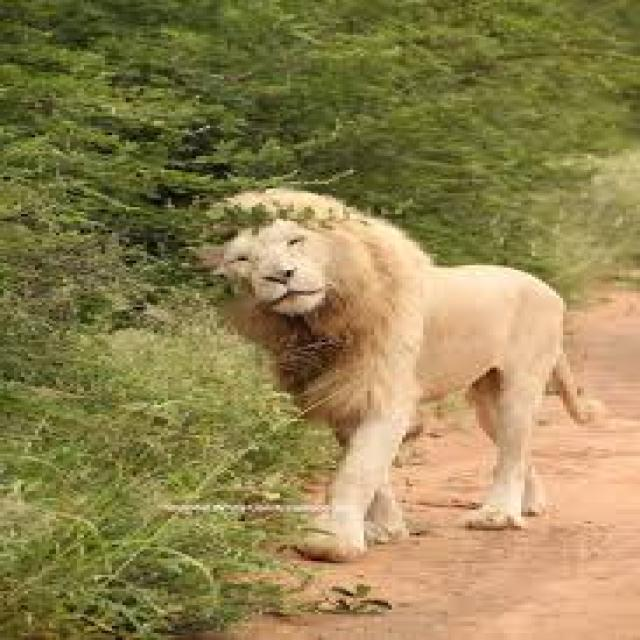Lion: (191, 183, 604, 565)
